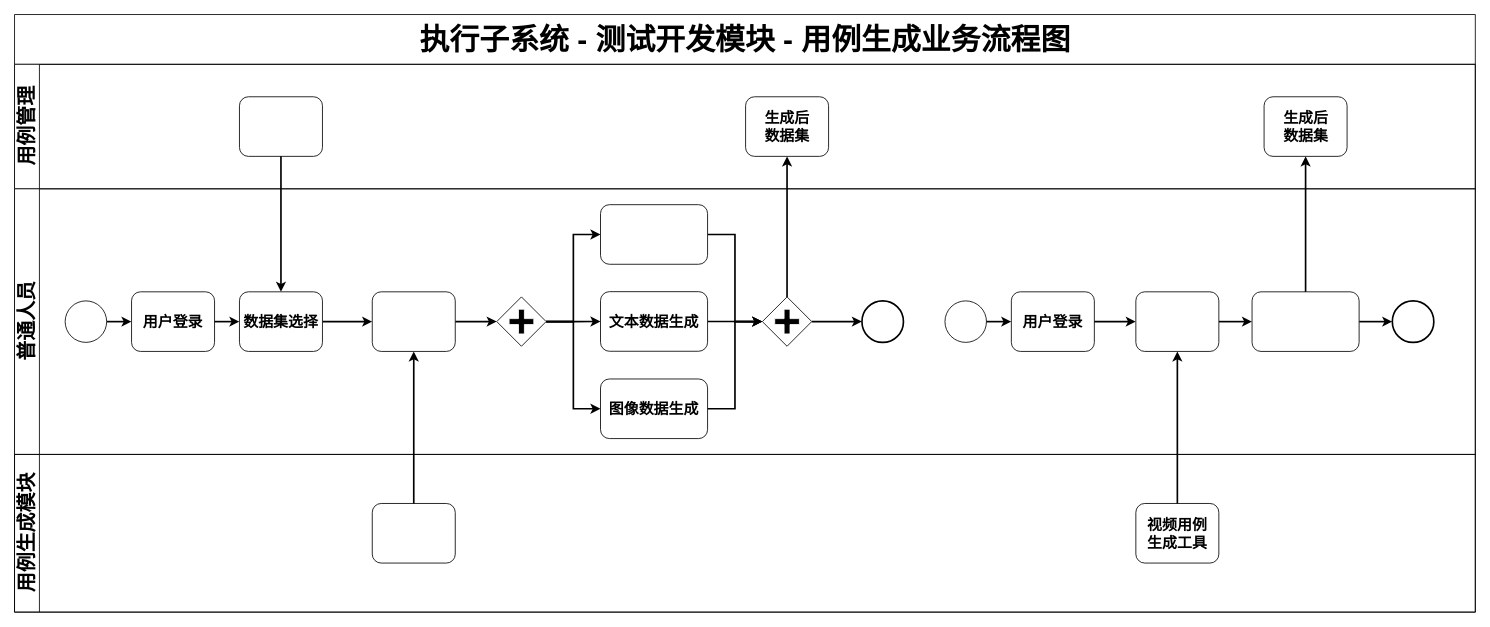
Image size: 1490x627. Some labels were removed from this diagram. Each missing label, with the centre of its shape:
"用例生成 工具" goes at point 413,533.
"用例生成 工具选择" goes at point 413,321.
"用例生成 工具配置" goes at point 1177,321.
"视频数据生成" goes at point 1305,321.
"语音数据生成" goes at point 654,234.
"输入数据集" goes at point 280,126.
